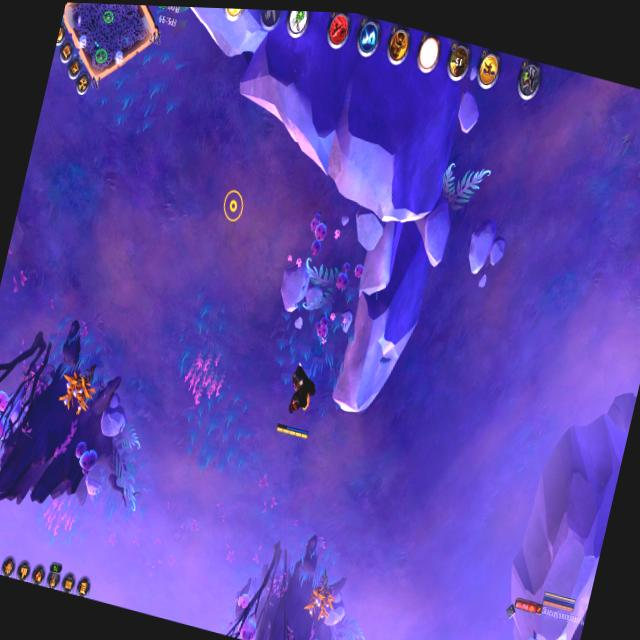hide: (52, 350, 104, 419), (296, 561, 347, 629)
red: (263, 355, 330, 455), (532, 583, 590, 633)
